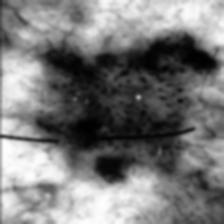Potentially Malignant Skin Tumors: (40, 44, 198, 146)
